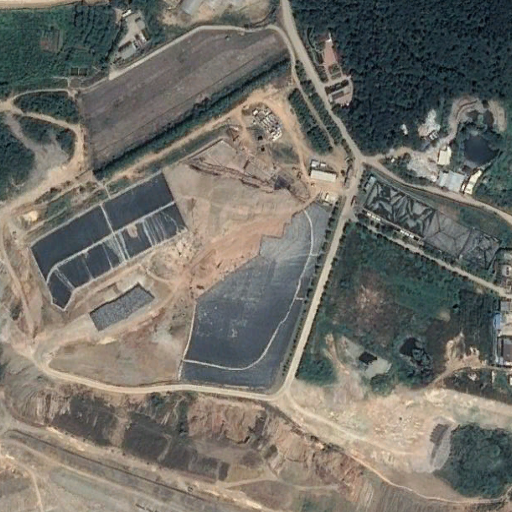lf: (29, 155, 342, 395)
